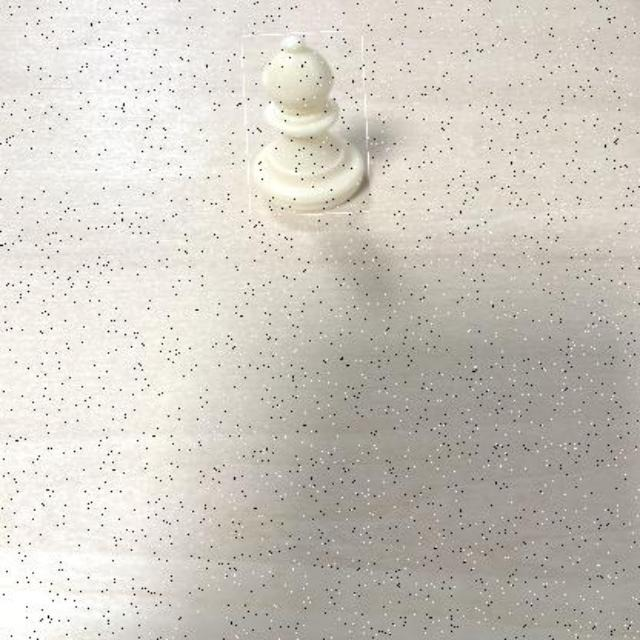white-bishop: (244, 33, 368, 217)
